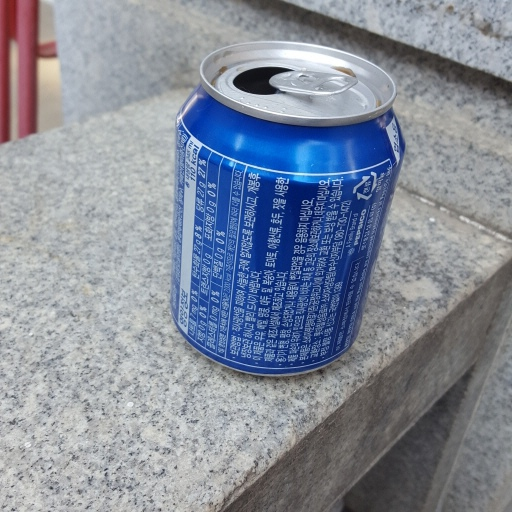Metal_0: (167, 41, 405, 379)
